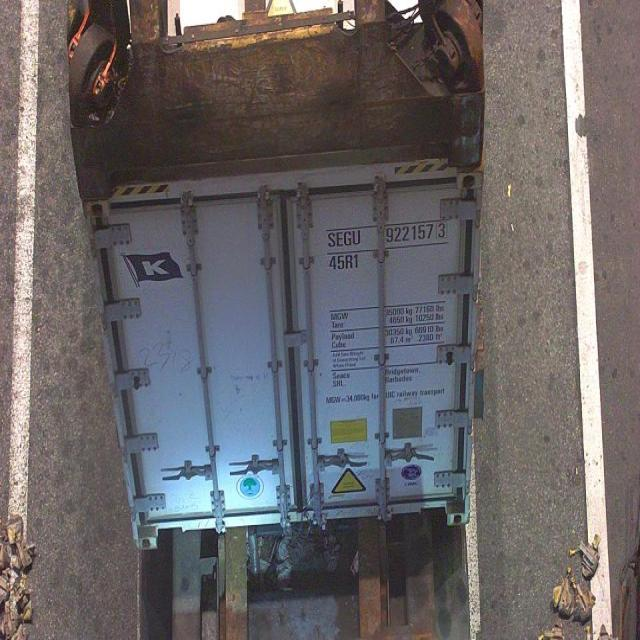ISO: (328, 254, 359, 274)
container_number: (327, 218, 450, 248)
